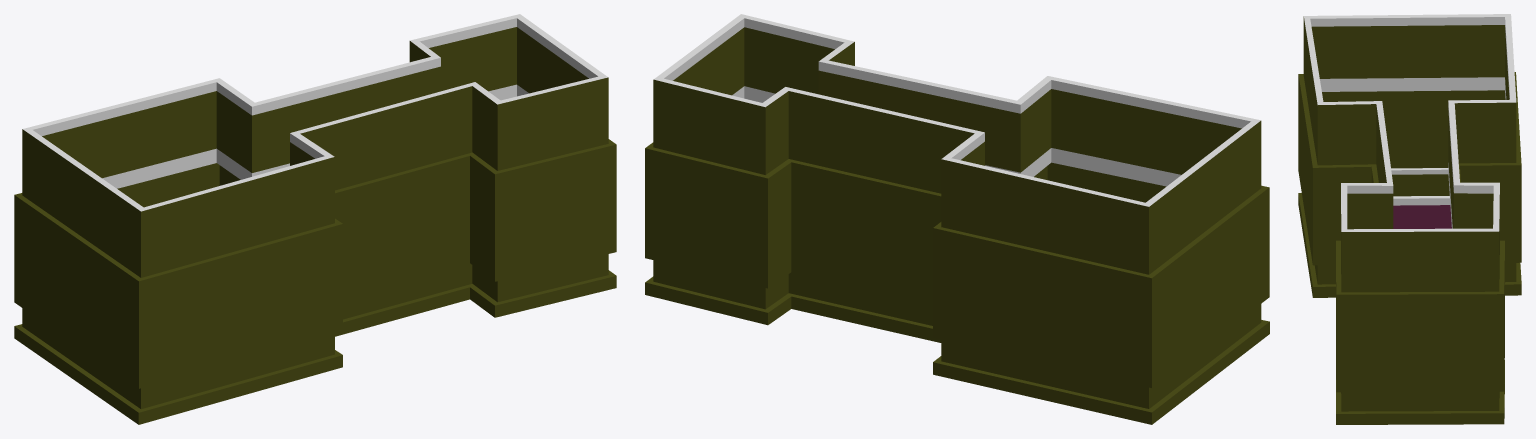
Rendered from World-Whitebox - Advertising-Hell-Main.fbx.
3 renders of one model, left to right at view 1: azimuth 30°, elevation 25°; view 2: azimuth 150°, elevation 25°; view 3: azimuth 270°, elevation 25°, orthographic. The views are drawn at different scales.
Visible parts, largest first — view 1: ADV HELL; view 2: ADV HELL; view 3: ADV HELL.
Part boxes in pixels (x1,y1,x2,y2): ADV HELL: (14,14,616,424); ADV HELL: (645,14,1269,424); ADV HELL: (1298,14,1521,424).
Bounding box in the file's own units: 21878 × 9021 × 9266.
